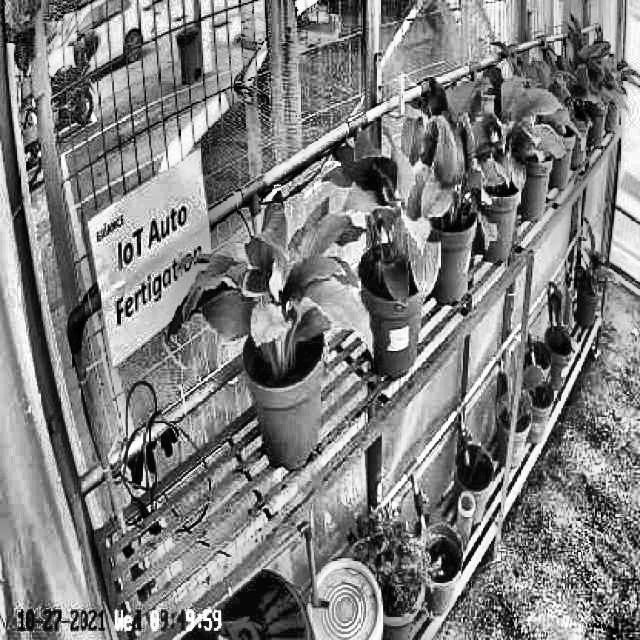plants: (164, 189, 373, 377), (336, 130, 441, 304), (399, 88, 499, 252), (450, 62, 564, 181)
